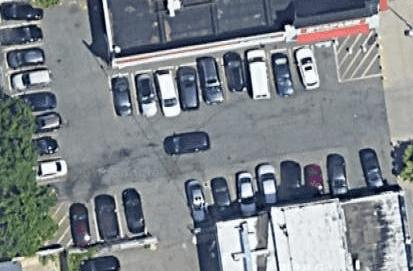parkingspot: (182, 142, 401, 231), (107, 40, 342, 122), (0, 1, 73, 201), (67, 186, 149, 250)
